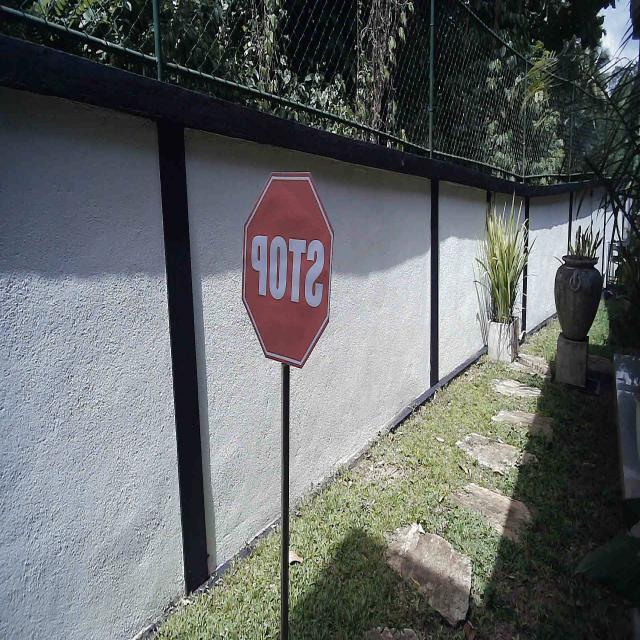stop: (240, 168, 336, 374)
